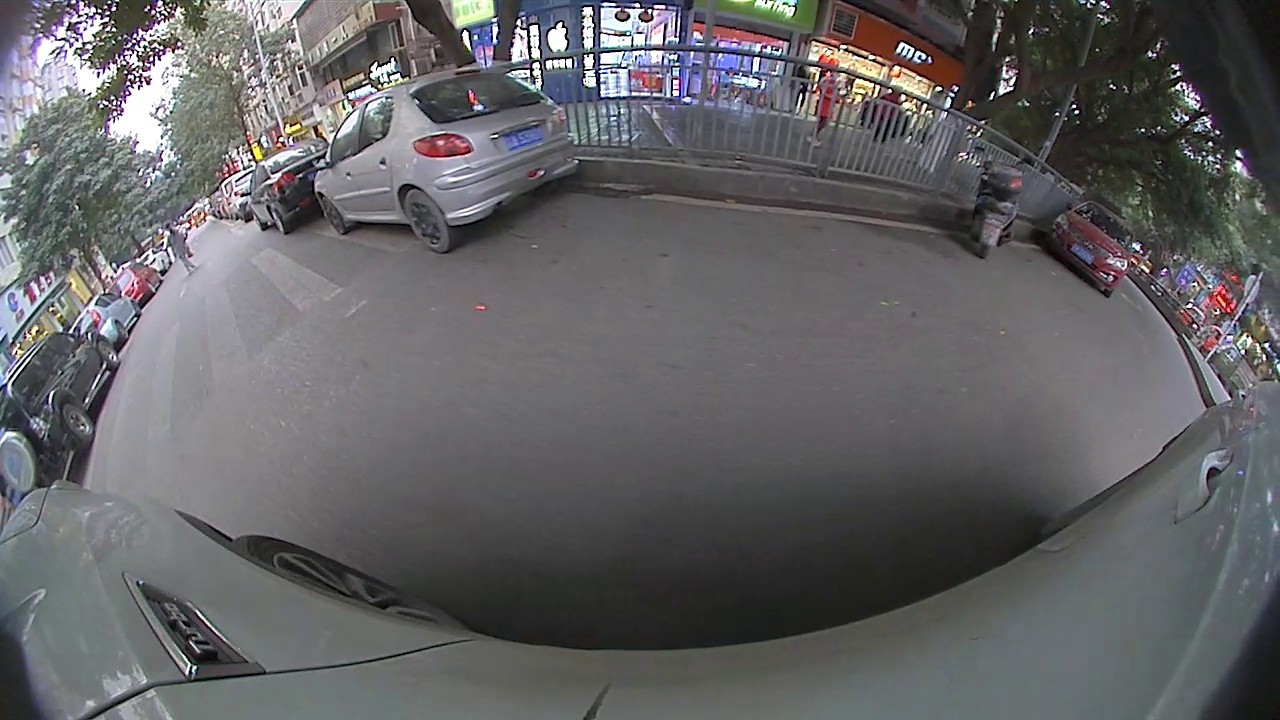car: (315, 68, 577, 256), (2, 331, 122, 494), (1050, 198, 1134, 297), (250, 139, 332, 235), (80, 295, 139, 348), (112, 261, 160, 306)
front: (316, 197, 349, 236), (97, 342, 121, 366)
person: (169, 224, 185, 272)
rear: (402, 189, 454, 254), (60, 401, 95, 443)
rider: (969, 143, 1033, 262)
